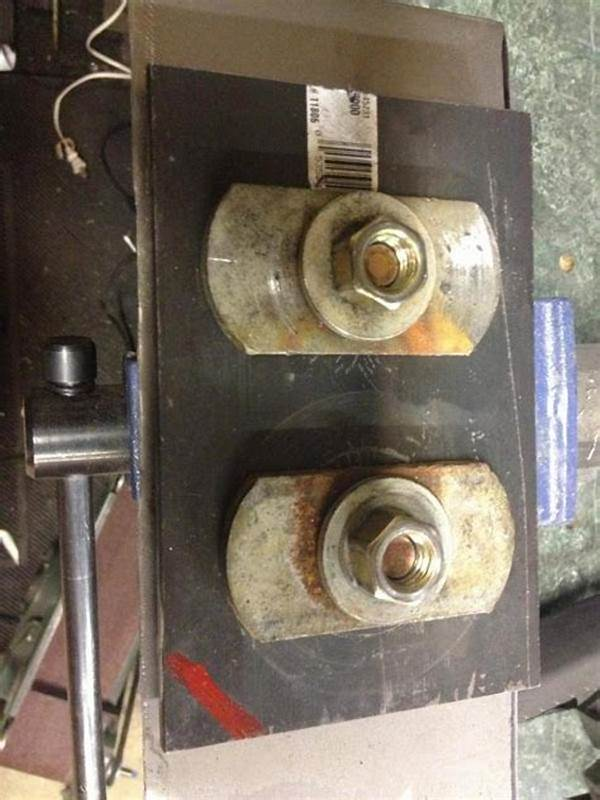bolt_b: (330, 212, 429, 316), (352, 503, 449, 609)
